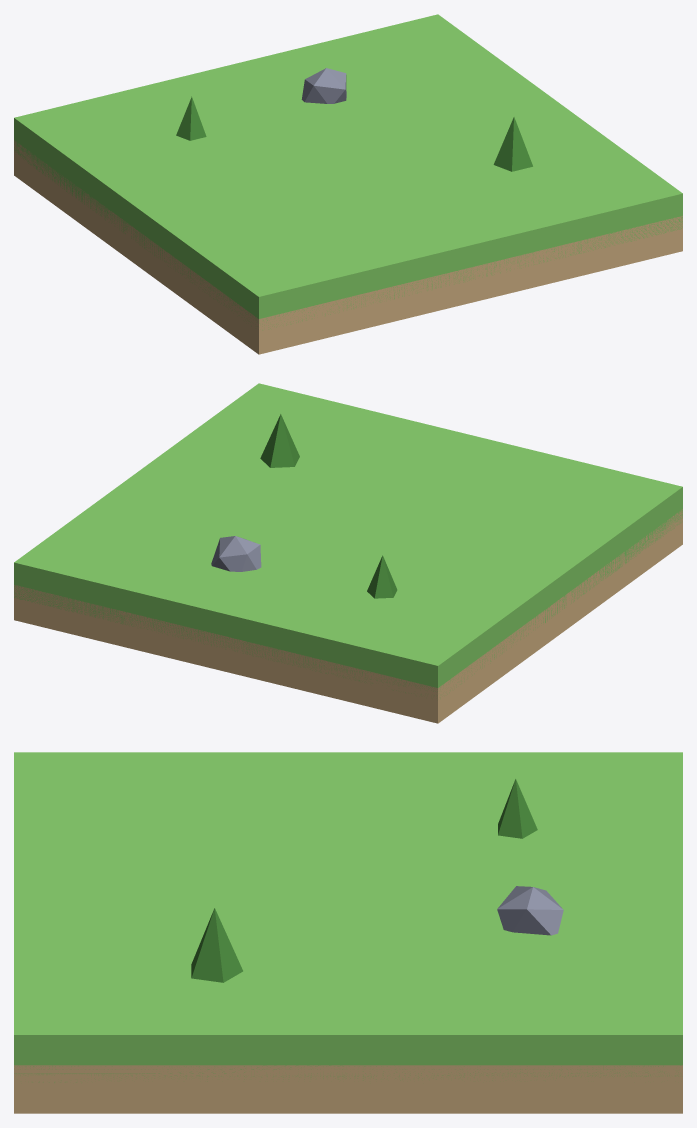
The model's file is SM_Tile_GroundTile.fbx.
3 views of the same model, one above another, from view 1: azimuth 30°, elevation 25°; view 2: azimuth 150°, elevation 25°; view 3: azimuth 270°, elevation 25° (orthographic). The views are drawn at different scales.
Parts seen in each view (by area): view 1: SM_Tile_GroundTile; view 2: SM_Tile_GroundTile; view 3: SM_Tile_GroundTile.
Part boxes in pixels (x1=…): SM_Tile_GroundTile: x1=14, y1=14, x2=682, y2=354; SM_Tile_GroundTile: x1=14, y1=383, x2=682, y2=723; SM_Tile_GroundTile: x1=14, y1=752, x2=682, y2=1113.
Bounding box in the file's own units: 2 × 0.47 × 2.
